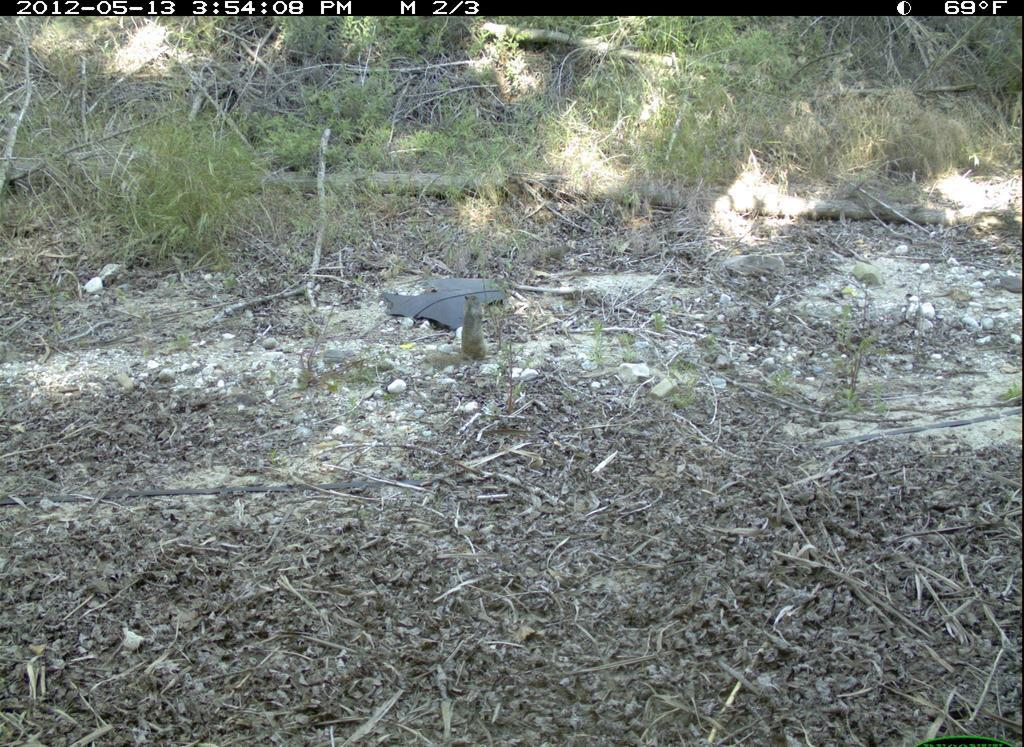squirrel: (447, 289, 497, 372)
